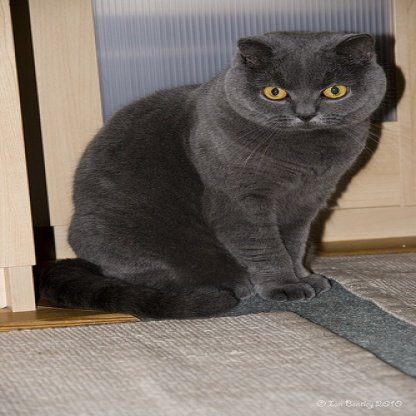british_shorthair: (37, 31, 388, 318)
